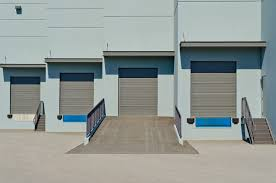Yard Ramp: (85, 116, 182, 156)
